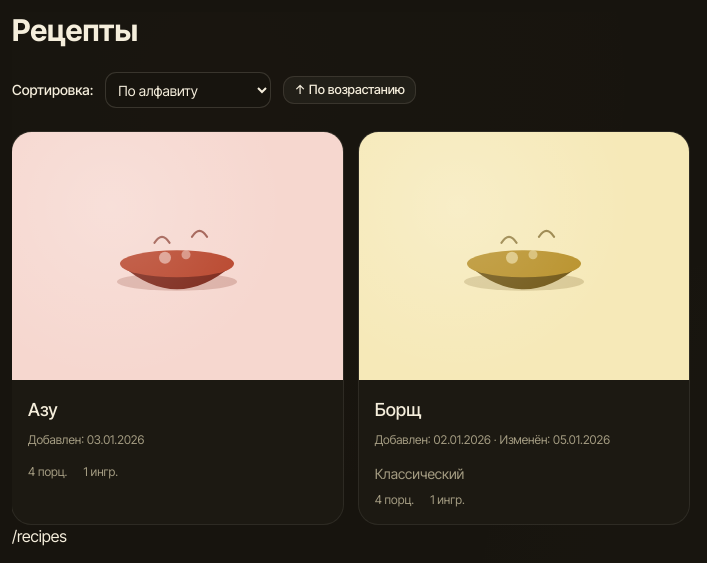
Scenario: RecipesPage › переключение направления сортировки переворачивает порядок и сохраняется
Expected: the text "Борщ" is shown, [375, 399, 421, 420]
Click the button "↑ По возрастанию": click(350, 90) [283, 76, 416, 104]
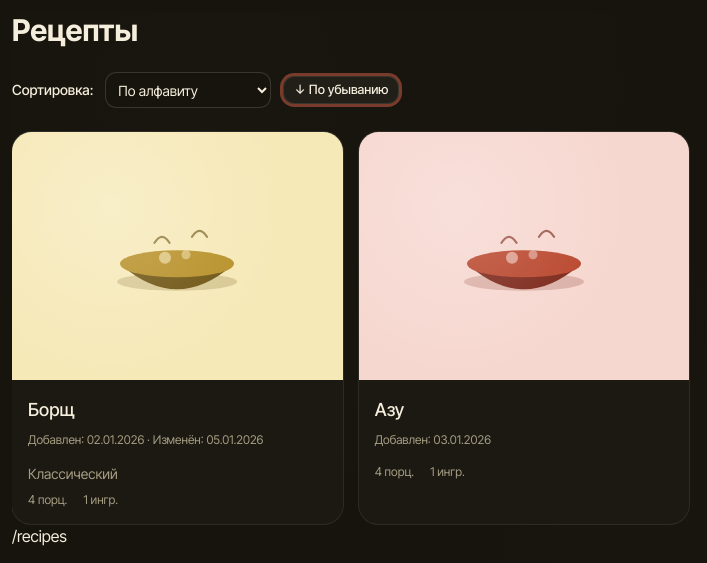
Expected: the button "↓ По убыванию" is shown, [283, 76, 399, 104]
